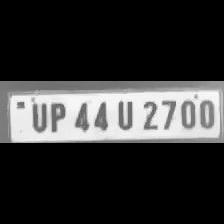0: (176, 97, 196, 129), (196, 97, 216, 129)
2: (136, 97, 160, 131)
4: (68, 98, 92, 132), (89, 98, 111, 132)
7: (156, 96, 176, 130)
P: (44, 98, 68, 132)
U: (112, 96, 136, 130), (28, 98, 48, 132)
